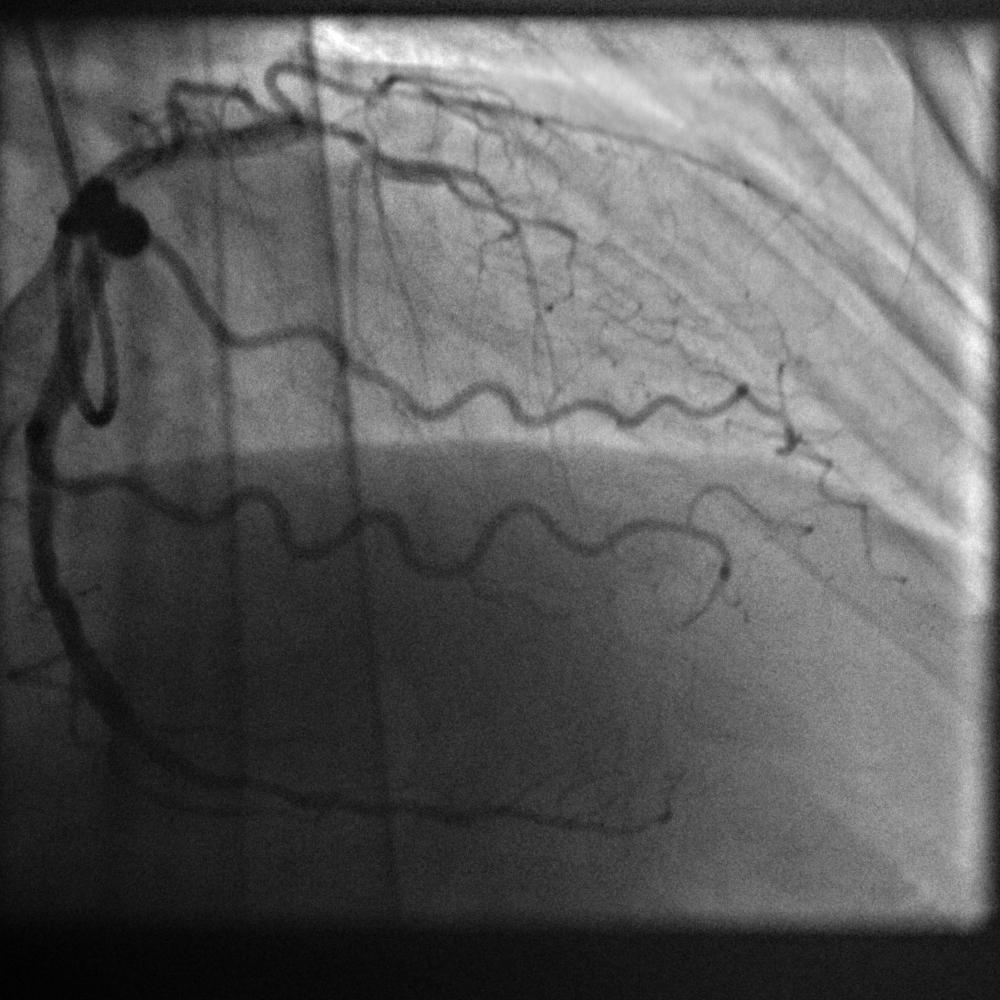Stenosis: (106, 694, 164, 756)
